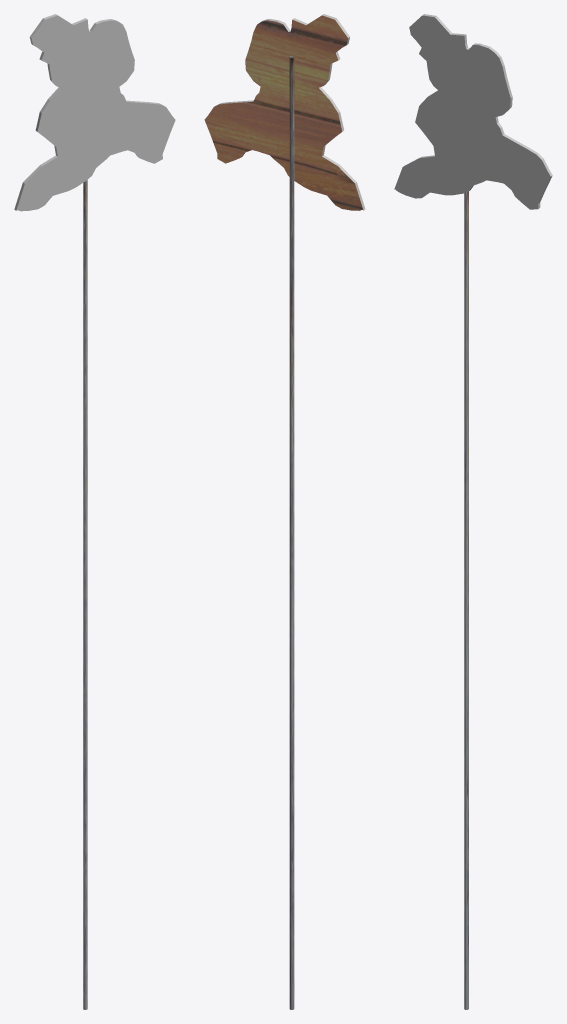
File: Protagonist.fbx
The picture shows the model from 3 angles, left to right: view 1: azimuth 30°, elevation 25°; view 2: azimuth 150°, elevation 25°; view 3: azimuth 330°, elevation 25°; orthographic projection.
Visible parts, largest first — view 1: Player.001, Player; view 2: Player.001, Player; view 3: Player.001, Player.
Part boxes in pixels (x1,y1,x2,y2): Player.001: (14,14,175,211); Player: (83,180,87,1009); Player.001: (204,14,365,210); Player: (289,56,294,1009); Player.001: (394,14,552,209); Player: (464,191,468,1009).
Size of the model in its own units: 140 by 842 by 5.23.
